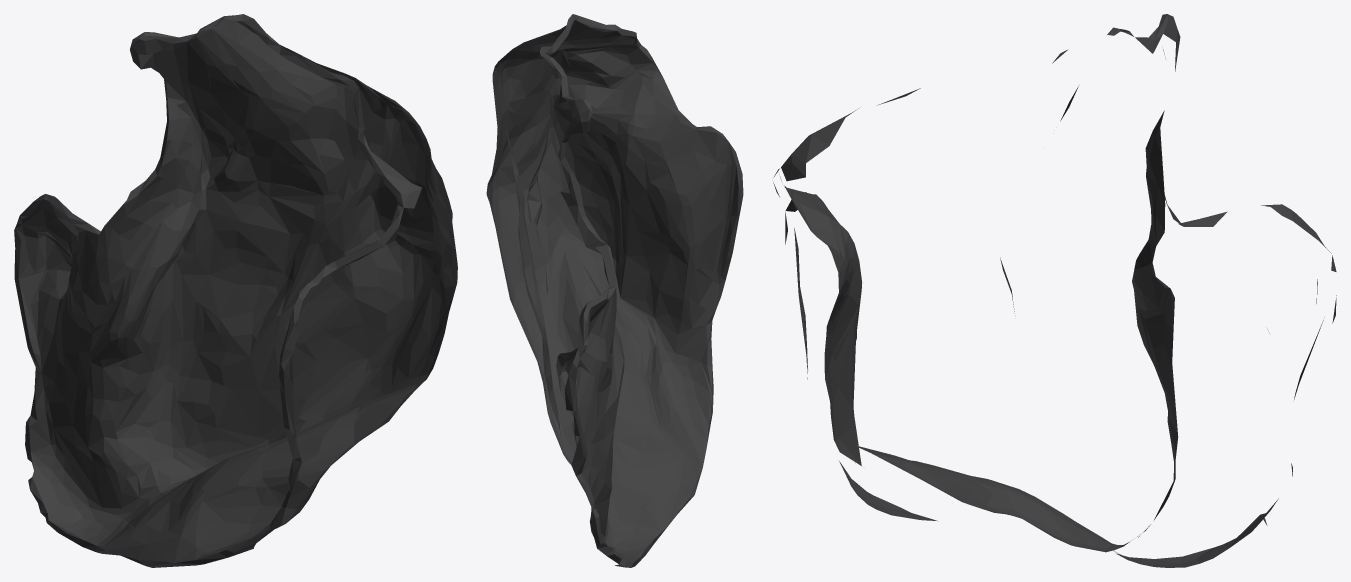
Rendered from abomasum_fundus.glb.
The picture shows the model from 3 angles, left to right: view 1: azimuth 30°, elevation 25°; view 2: azimuth 150°, elevation 25°; view 3: azimuth 270°, elevation 25°; orthographic projection. The views are drawn at different scales.
Visible parts, largest first — view 1: abomasum_fundus; view 2: abomasum_fundus; view 3: abomasum_fundus.
Part boxes in pixels (box(x1,y1,x2,y2)): abomasum_fundus: box(14, 14, 457, 567); abomasum_fundus: box(486, 14, 743, 567); abomasum_fundus: box(773, 14, 1336, 567).
Size of the model in its own units: 0.7088 by 1.27 by 1.06.
1 material, 1 textured.
